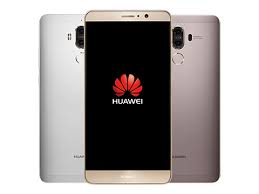huawei: (36, 6, 222, 184), (82, 7, 172, 184), (167, 10, 224, 182), (36, 11, 85, 182)
